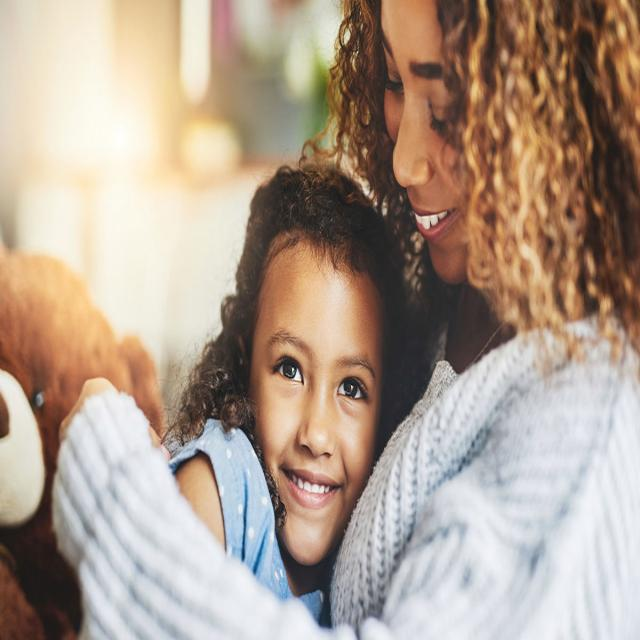adult: (0, 0, 640, 640)
child: (159, 160, 414, 628)
